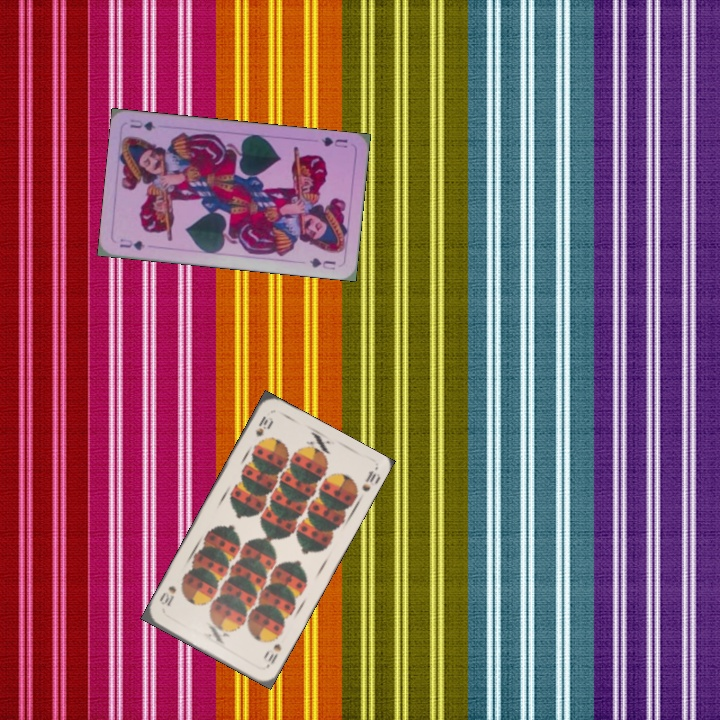GU: (115, 235, 147, 253), (317, 133, 350, 150)
S10: (251, 412, 274, 440), (264, 639, 284, 667)
